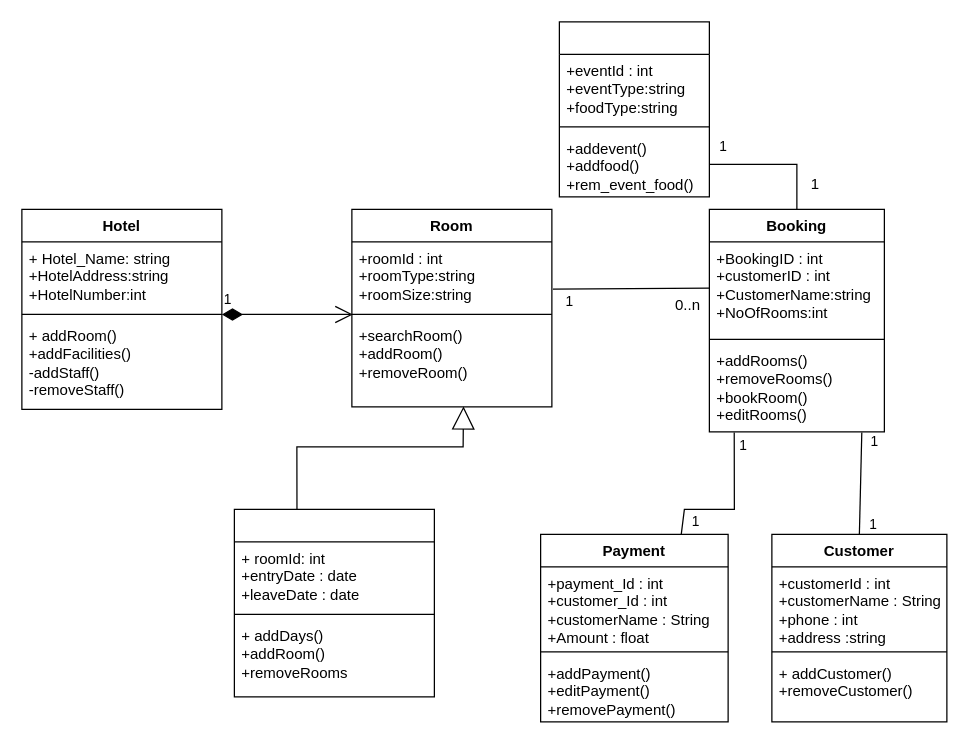
This 969x748 diagram has some shape labels left out. The shapes that lost their labels are listed below. From the top down, each one's box as (x1, y1, x2, y2) in pixels, then its label:
(558, 21, 709, 197): food and events
(233, 508, 434, 697): Regular room
